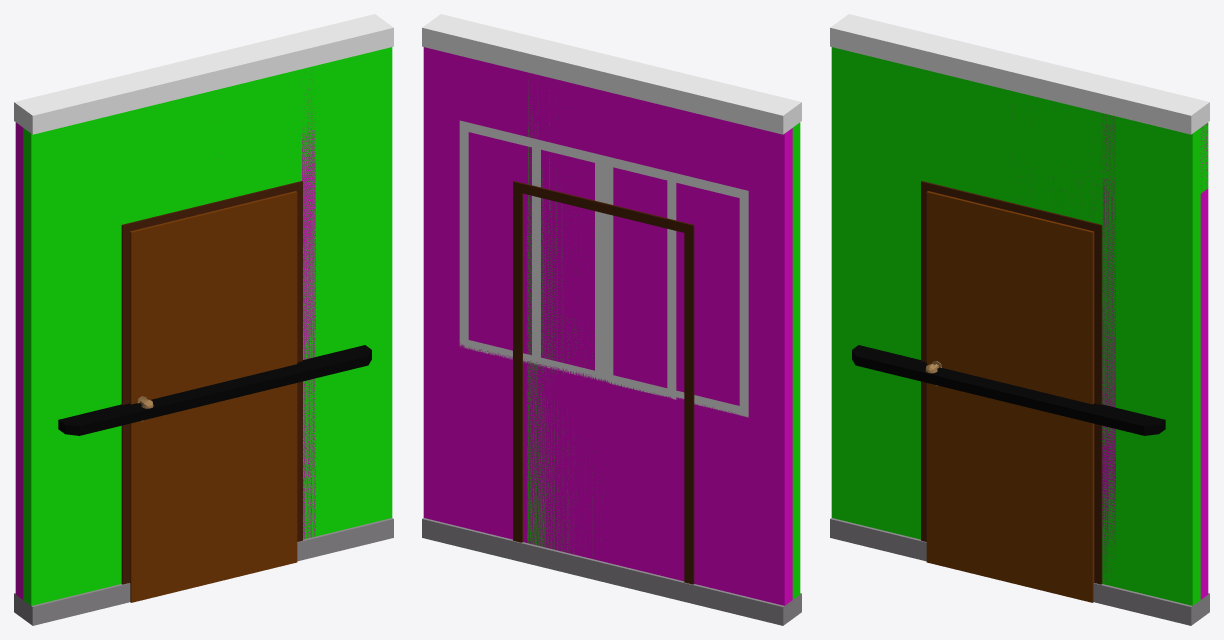
File: Walls.fbx
3 renders of one model, left to right at view 1: azimuth 30°, elevation 25°; view 2: azimuth 150°, elevation 25°; view 3: azimuth 330°, elevation 25°, orthographic.
Parts seen in each view (by area): view 1: WallDoubleWindowed.001, WallSingleDoorway.Doors.001, WallDouble.001, WallSingleDoorway.001, WallSingleWindowed.001, WallSingle.001, WallSingleDoorway.Frame.001, WallCorner.L.001; view 2: WallDouble.001, WallDoubleWindowed.001, WallSingleWindowed.001, WallSingle.001, WallDoubleWindowed.Frame.001, WallSingleDoorway.Frame.001, WallSingleDoorway.001, WallCorner.L.001, WallSingleWindowed.Frame.001, WallCorner.R.001; view 3: WallDoubleWindowed.001, WallDouble.001, WallSingleDoorway.Doors.001, WallSingleWindowed.001, WallSingleDoorway.001, WallSingle.001, WallSingleDoorway.Frame.001, WallCorner.L.001, WallCorner.R.001.
Part boxes in pixels (x1,y1,x2,y2): WallDoubleWindowed.001: (14,14,393,625); WallSingleDoorway.Doors.001: (129,191,297,602); WallDouble.001: (15,14,393,625); WallSingleDoorway.001: (106,37,303,224); WallSingleWindowed.001: (105,36,303,598); WallSingle.001: (121,69,303,600); WallSingleDoorway.Frame.001: (121,181,302,584); WallCorner.L.001: (202,40,319,553); WallDouble.001: (422,14,800,625); WallDoubleWindowed.001: (422,14,801,625); WallSingleWindowed.001: (512,36,711,602); WallSingle.001: (512,75,694,603); WallDoubleWindowed.Frame.001: (459,120,748,417); WallSingleDoorway.Frame.001: (513,181,694,584); WallSingleDoorway.001: (512,37,710,221); WallCorner.L.001: (515,32,602,580); WallSingleWindowed.Frame.001: (532,138,676,399); WallCorner.R.001: (496,40,603,581); WallDoubleWindowed.001: (830,14,1209,625); WallDouble.001: (830,15,1208,625); WallSingleDoorway.Doors.001: (926,191,1094,602); WallSingleWindowed.001: (920,36,1118,603); WallSingleDoorway.001: (920,37,1116,224); WallSingle.001: (920,70,1102,603); WallSingleDoorway.Frame.001: (921,181,1102,584); WallCorner.L.001: (1012,60,1116,607); WallCorner.R.001: (1013,60,1129,219).
Size of the model in its own units: 200 by 270 by 28.14.
